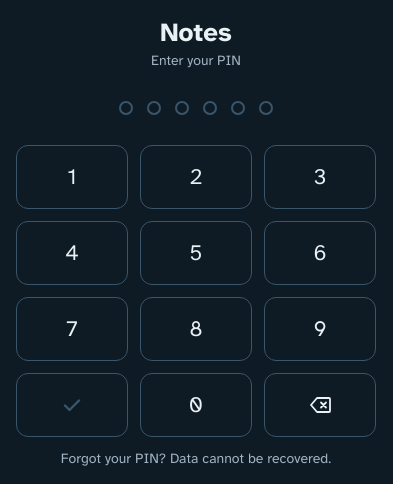
it: LockScreen › shows Notes, PIN dots, Delete keypad key, and forgot-PIN copy
Expected: the heading "Notes" is shown, [160,16,232,49]
Expected: the text "Enter your PIN" is shown, [151,52,241,69]
Click the button "1" at (72, 177), box [16,145,128,209]
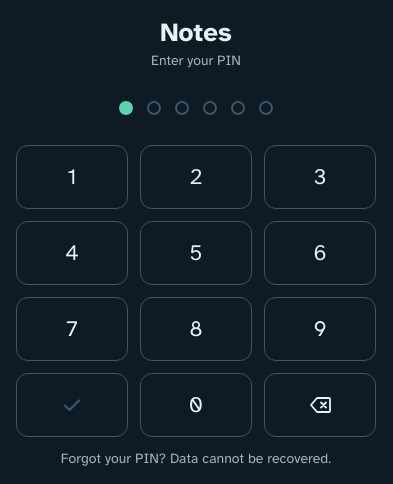
Click the button "2" at (196, 177), box [140,145,252,209]
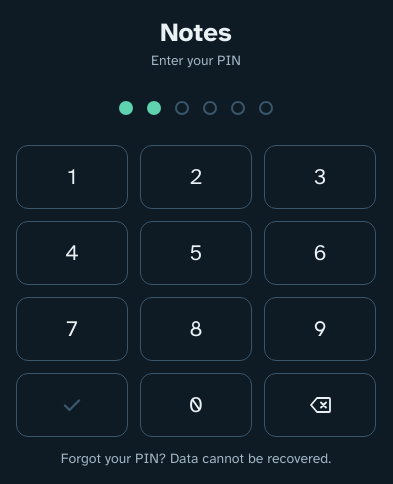
Click the button "3" at (320, 177), box [264,145,376,209]
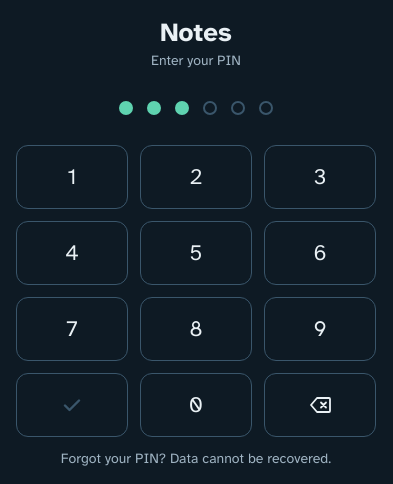
Click the button "4" at (72, 253), box [16,221,128,285]
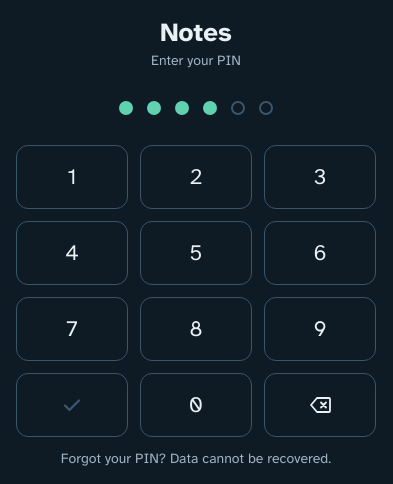
Click the button "5" at (196, 253), box [140,221,252,285]
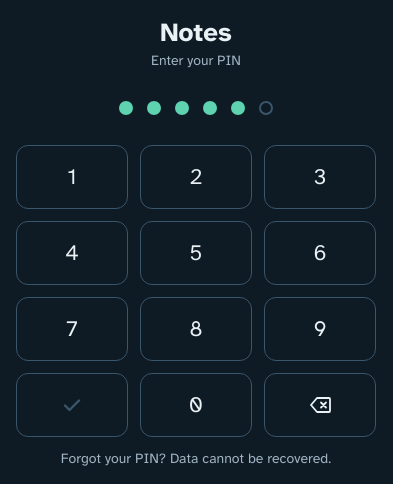
Click the button "6" at (320, 253), box [264,221,376,285]
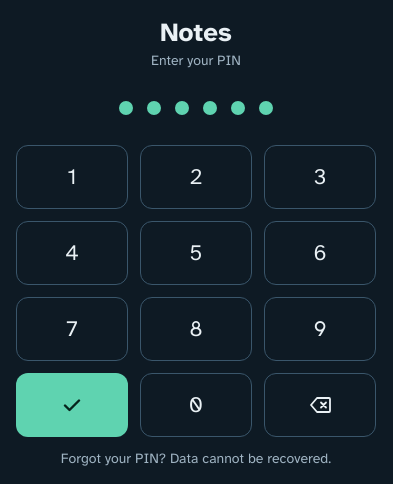
Expected: the icon with class "ui-icon--check-outline" is shown, [60,393,84,417]
Expected: the button named "Unlock" is enabled, [16,373,128,437]
